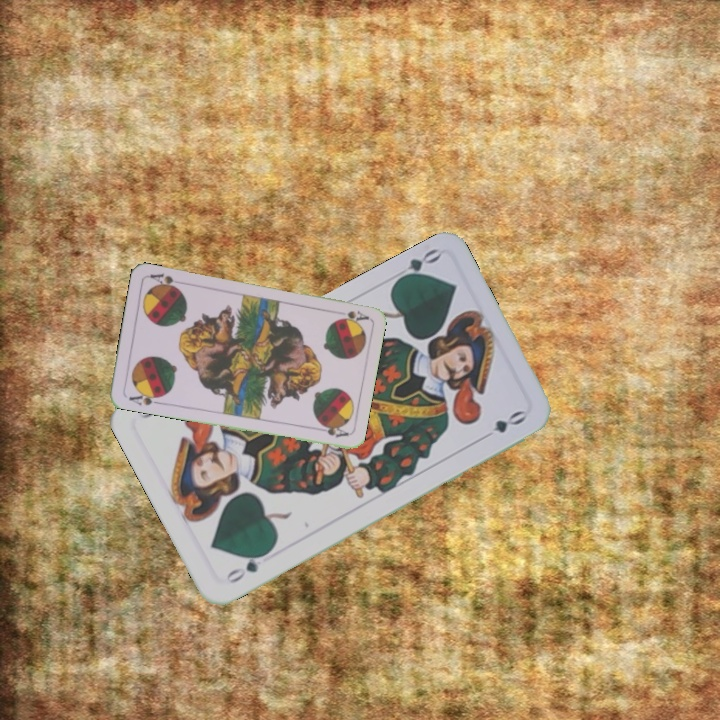GO: (390, 244, 443, 286), (222, 547, 272, 587)
SA: (125, 387, 165, 408), (335, 307, 371, 325)
